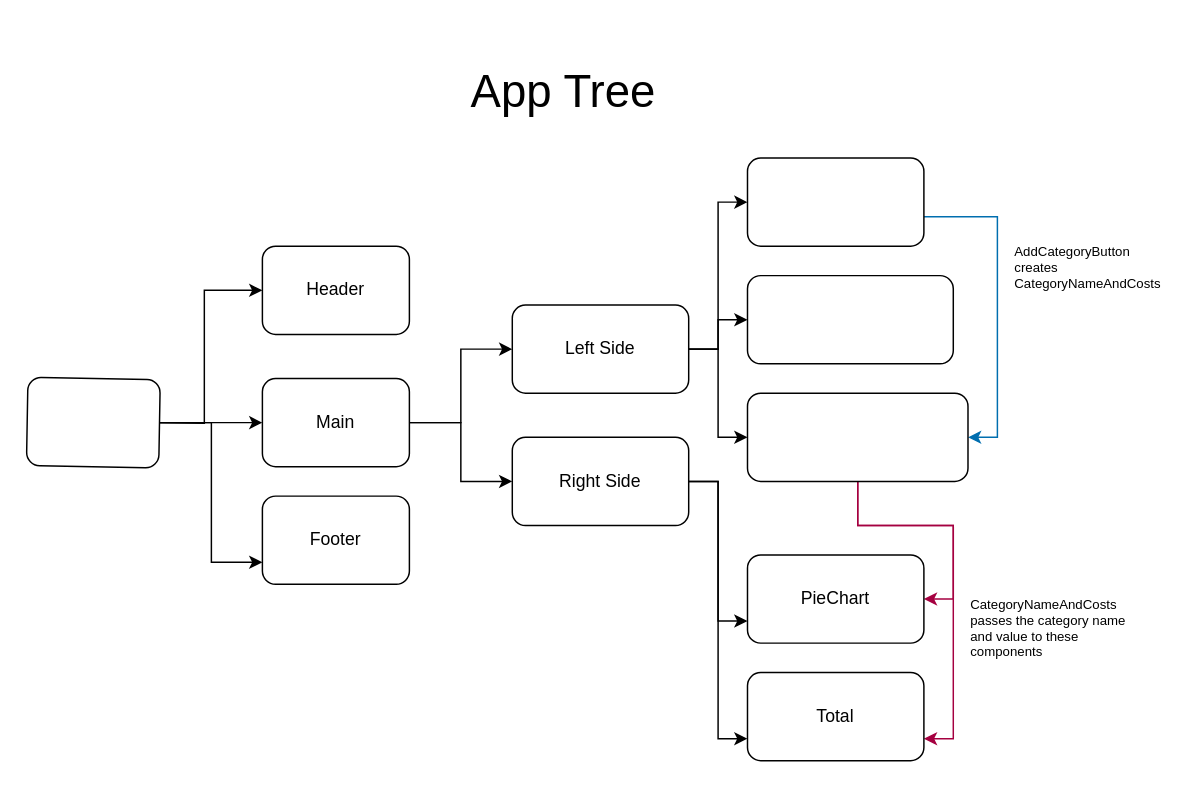
This 1188x786 diagram has some shape labels left out. The centre of each missing label's shape, as x and y in pixels:
AddCategoryButton: the point at 835,201
App: the point at 92,422
CategoryNameAndCosts: the point at 857,436
EstimatedAmountText: the point at 849,319
